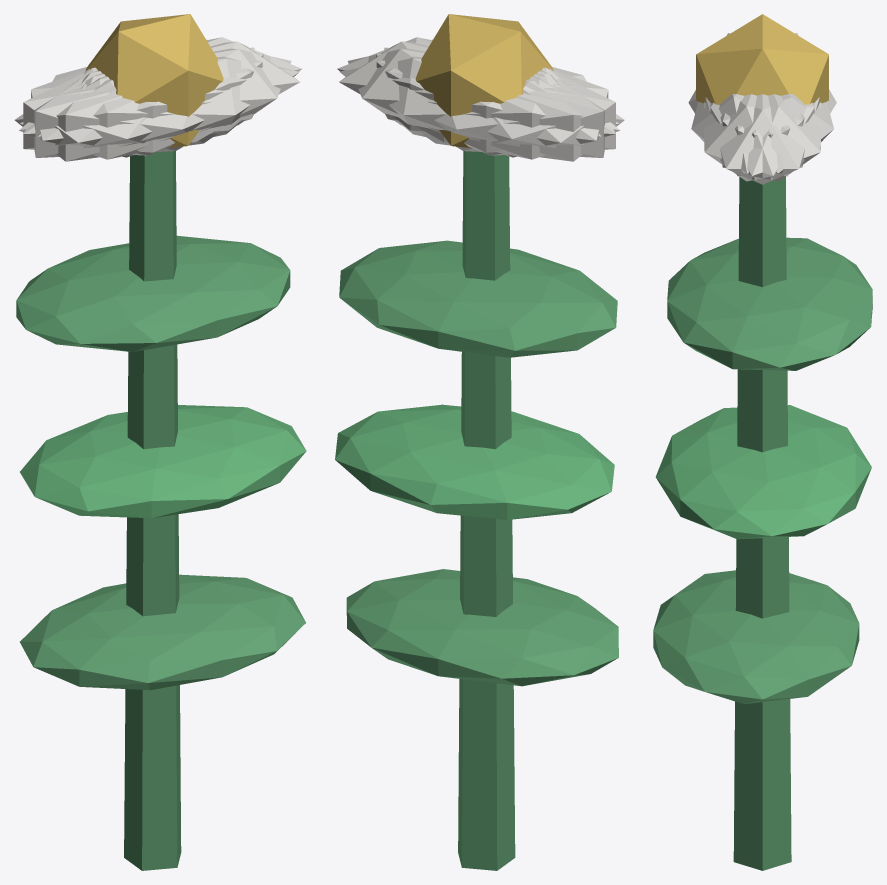
File: limnophila-rugosa.glb
The picture shows the model from 3 angles, left to right: view 1: azimuth 30°, elevation 25°; view 2: azimuth 150°, elevation 25°; view 3: azimuth 270°, elevation 25°; orthographic projection.
Parts seen in each view (by area): view 1: stem, leaf1, leaf0, leaf2, center, petal1, petal6, petal2, petal5, petal7, petal0, petal4 (+2 smaller); view 2: stem, leaf2, leaf1, leaf0, center, petal8, petal3, petal7, petal4, petal2, petal0, petal5 (+2 smaller); view 3: stem, leaf1, leaf2, leaf0, center, petal0, petal4, petal5, petal1, petal8.
Boxes of the visible parts, left/top/right/bottom form: stem: left=124, top=151, right=181, bottom=870; leaf1: left=20, top=405, right=306, bottom=518; leaf0: left=20, top=574, right=305, bottom=690; leaf2: left=16, top=235, right=290, bottom=351; center: left=85, top=14, right=223, bottom=148; petal1: left=19, top=56, right=299, bottom=159; petal6: left=14, top=69, right=217, bottom=161; petal2: left=34, top=47, right=254, bottom=157; petal5: left=38, top=48, right=291, bottom=152; petal7: left=23, top=53, right=263, bottom=155; petal0: left=85, top=41, right=299, bottom=142; petal4: left=20, top=37, right=301, bottom=133; stem: left=458, top=151, right=515, bottom=870; leaf2: left=339, top=240, right=617, bottom=357; leaf1: left=335, top=404, right=614, bottom=519; leaf0: left=346, top=569, right=618, bottom=686; center: left=415, top=14, right=553, bottom=148; petal8: left=340, top=56, right=620, bottom=159; petal3: left=421, top=69, right=624, bottom=161; petal7: left=384, top=47, right=604, bottom=157; petal4: left=347, top=48, right=601, bottom=152; petal2: left=376, top=53, right=615, bottom=155; petal0: left=339, top=41, right=554, bottom=142; petal5: left=337, top=37, right=618, bottom=134; stem: left=733, top=177, right=791, bottom=870; leaf1: left=655, top=405, right=871, bottom=539; leaf2: left=667, top=237, right=872, bottom=370; leaf0: left=653, top=570, right=859, bottom=704; center: left=696, top=14, right=828, bottom=104; petal0: left=705, top=94, right=819, bottom=184; petal4: left=710, top=94, right=821, bottom=181; petal5: left=704, top=94, right=814, bottom=181; petal1: left=691, top=94, right=804, bottom=173; petal8: left=720, top=94, right=833, bottom=173.
Size of the model in its own units: 0.1452 by 0.4202 by 0.1011.
